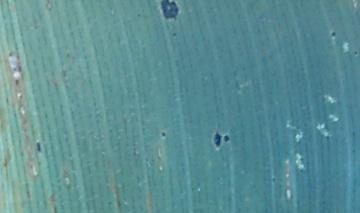tarspot: (159, 1, 178, 21), (213, 130, 222, 149), (34, 140, 42, 152), (222, 134, 230, 142), (6, 50, 14, 57), (17, 64, 22, 75), (14, 78, 20, 87), (160, 131, 167, 138), (330, 30, 336, 37), (353, 50, 359, 56), (135, 12, 141, 18), (171, 31, 177, 36), (12, 66, 17, 72)
